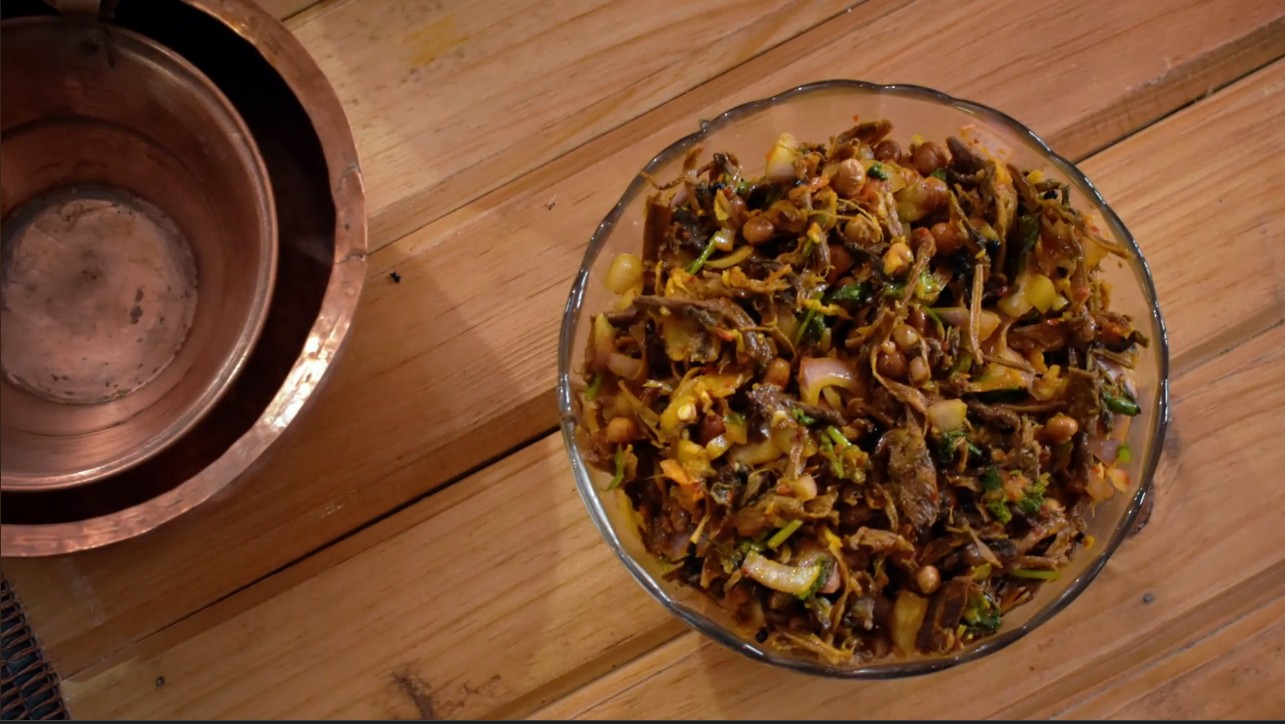gundruk: (650, 163, 1093, 628)
